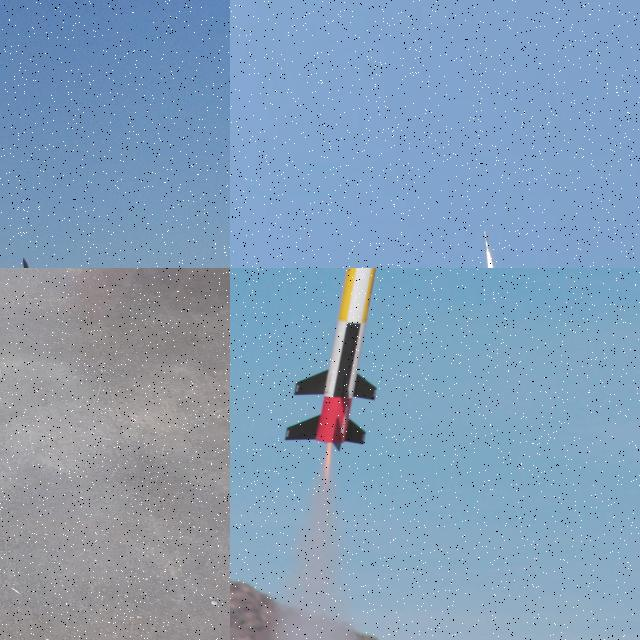Rocket: (282, 268, 383, 452), (21, 257, 48, 268), (484, 231, 488, 250)
